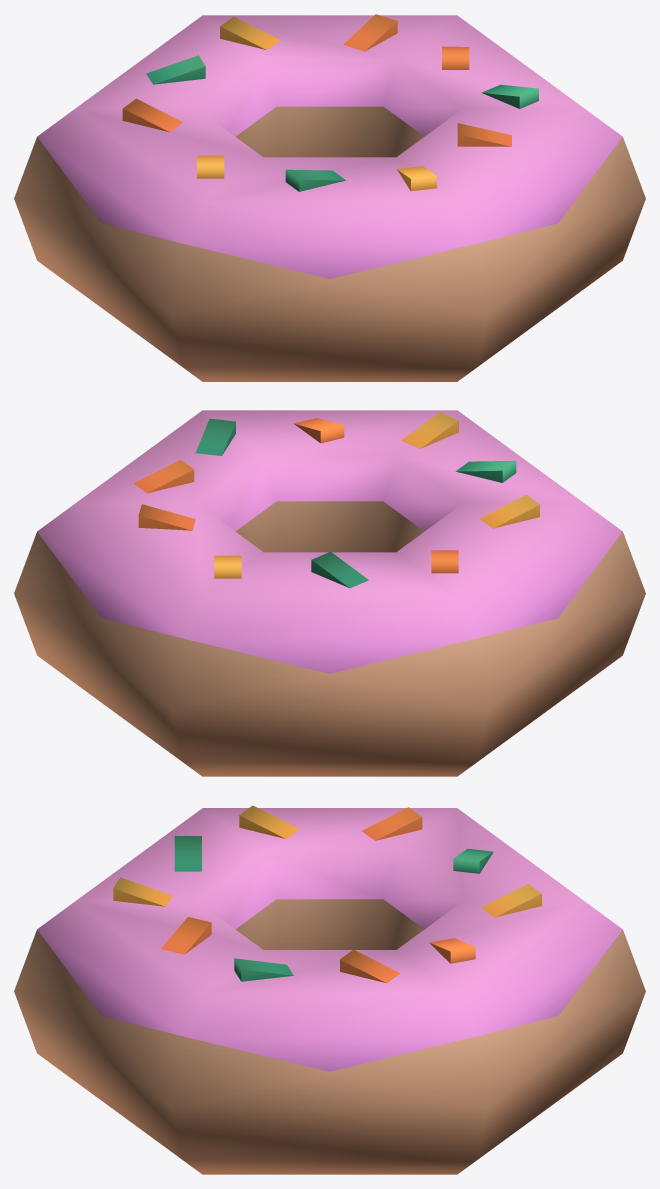
The model's file is food_donut.glb.
3 views of the same model, one above another, from view 1: azimuth 30°, elevation 25°; view 2: azimuth 150°, elevation 25°; view 3: azimuth 270°, elevation 25° (orthographic).
Visible parts, largest first — view 1: donut-sprinkles; view 2: donut-sprinkles; view 3: donut-sprinkles.
Boxes of the visible parts, x1,y1,x2,y2 form: donut-sprinkles: (14, 14, 645, 381); donut-sprinkles: (14, 410, 645, 776); donut-sprinkles: (14, 805, 645, 1174).
Size of the model in its own units: 0.1 by 0.0388 by 0.1155.
1 material, 1 textured.
